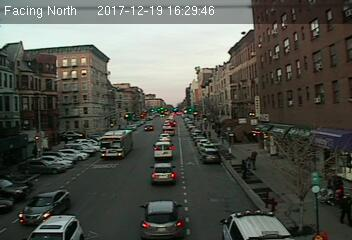bus: (99, 129, 133, 159)
car: (17, 190, 71, 223), (138, 200, 186, 236), (148, 162, 176, 186), (201, 148, 220, 164), (158, 134, 171, 143)
pedestrian: (248, 150, 259, 170)
police: (220, 209, 291, 240)
truck: (153, 140, 174, 160)
